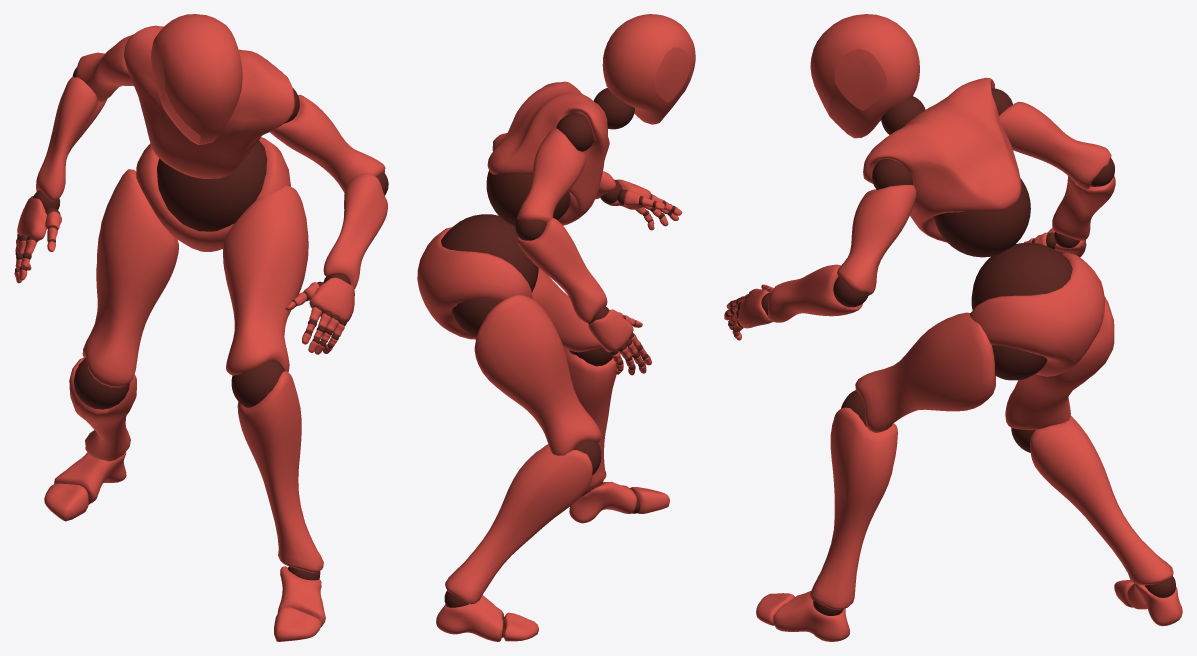
3 renders of one model, left to right at view 1: azimuth 30°, elevation 25°; view 2: azimuth 150°, elevation 25°; view 3: azimuth 270°, elevation 25°, orthographic. The views are drawn at different scales.
Parts seen in each view (by area): view 1: Beta_Surface, Beta_Joints; view 2: Beta_Surface, Beta_Joints; view 3: Beta_Surface, Beta_Joints.
Boxes of the visible parts, left/top/right/bottom form: Beta_Surface: left=14, top=14, right=387, bottom=641; Beta_Joints: left=15, top=67, right=388, bottom=580; Beta_Surface: left=417, top=14, right=695, bottom=641; Beta_Joints: left=441, top=88, right=675, bottom=637; Beta_Surface: left=724, top=14, right=1182, bottom=641; Beta_Joints: left=725, top=88, right=1175, bottom=615.
Size of the model in its own units: 0.6757 by 1.42 by 1.02.
